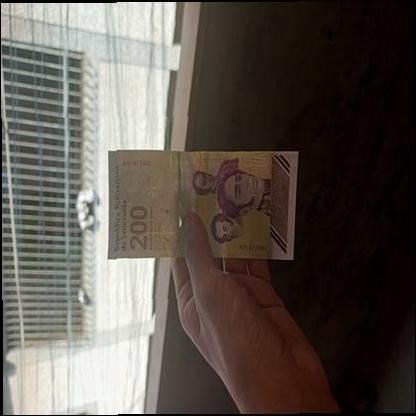two_hundred-front-vef: (108, 148, 298, 260)
